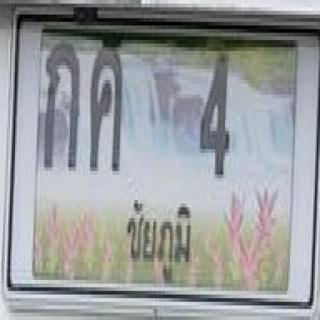A01: (39, 35, 85, 178)
A04: (84, 42, 126, 177)
N04: (185, 48, 237, 180)
P09: (124, 197, 194, 283)
